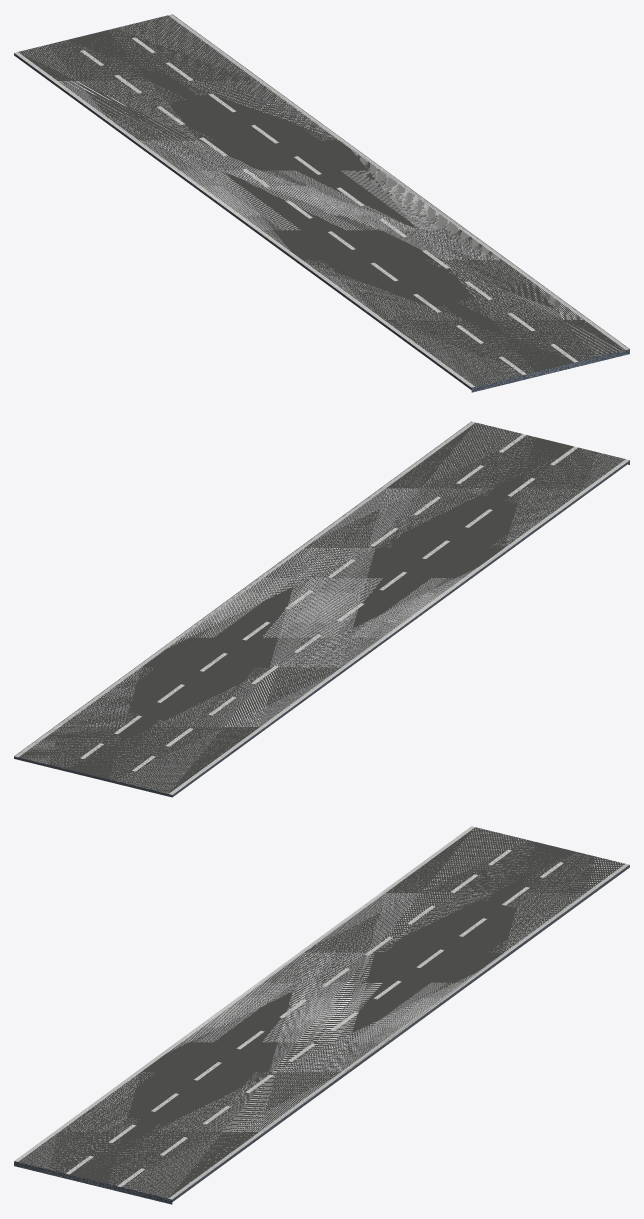
The model's file is Straight Roald V4.dae.
3 views of the same model, one above another, from view 1: azimuth 30°, elevation 25°; view 2: azimuth 150°, elevation 25°; view 3: azimuth 330°, elevation 25° (orthographic).
Parts seen in each view (by area): view 1: group_0 (×3), SketchUp (×2); view 2: group_0 (×2), SketchUp (×2); view 3: group_0 (×3), SketchUp (×2).
Boxes of the visible parts, bbox=[...] form: group_0 (×3): bbox=[14, 15, 629, 392]; SketchUp (×2): bbox=[14, 14, 628, 389]; group_0 (×2): bbox=[18, 422, 629, 794]; SketchUp (×2): bbox=[14, 421, 629, 797]; group_0 (×3): bbox=[14, 826, 625, 1204]; SketchUp (×2): bbox=[168, 864, 629, 1201].
Size of the model in its own units: 3937 by 19685 by 119.
